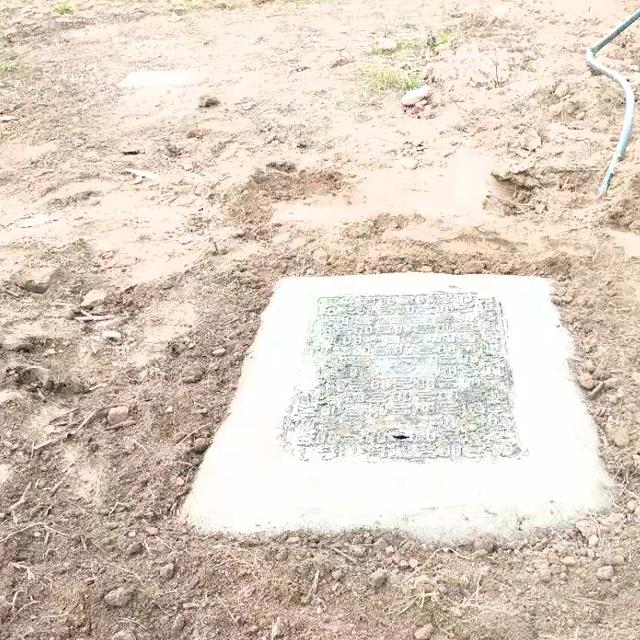good: (270, 287, 531, 470)
